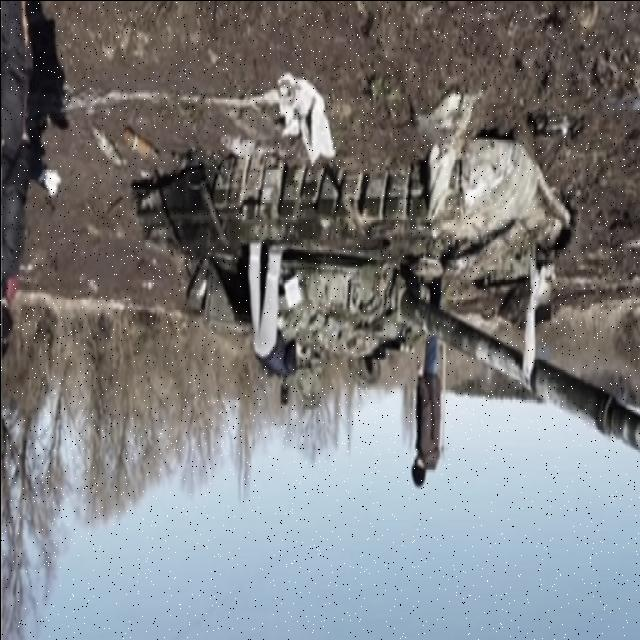TANK: (140, 133, 634, 447)
